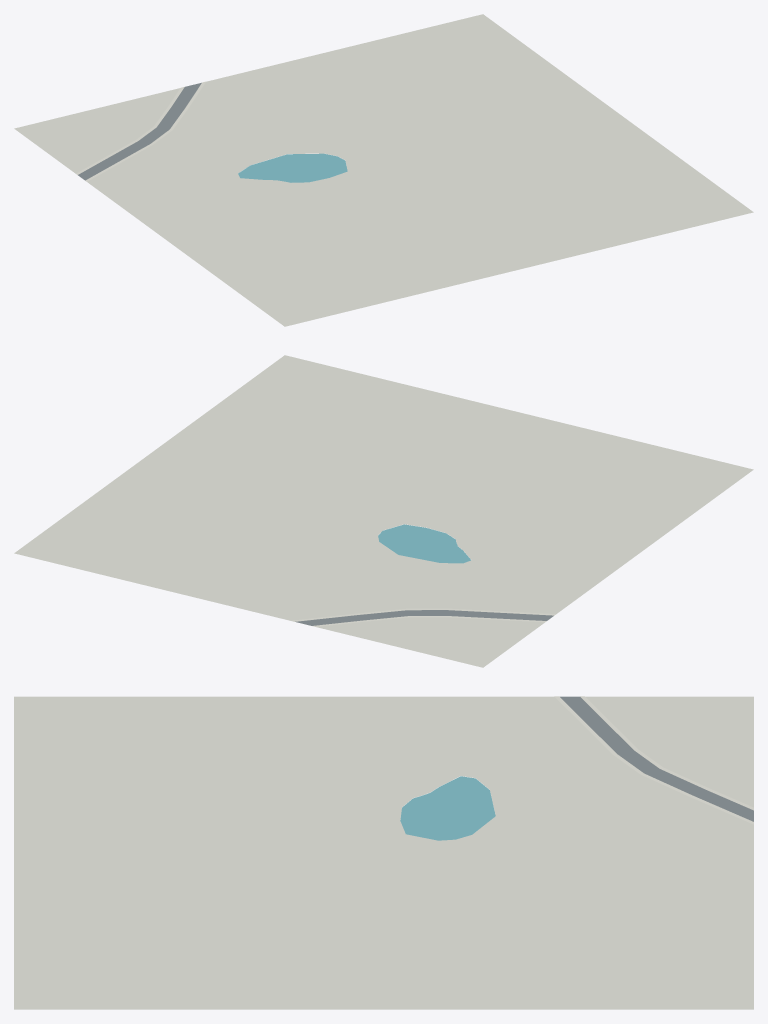
3 views of the same model, one above another, from view 1: azimuth 30°, elevation 25°; view 2: azimuth 150°, elevation 25°; view 3: azimuth 270°, elevation 25° (orthographic). The views are drawn at different scales.
Parts seen in each view (by area): view 1: city; view 2: city; view 3: city.
Part boxes in pixels (x1,y1,x2,y2): city: (14, 14, 753, 326); city: (14, 355, 753, 667); city: (14, 696, 753, 1009).
Bounding box in the file's own units: 500 × 0.4 × 500.
